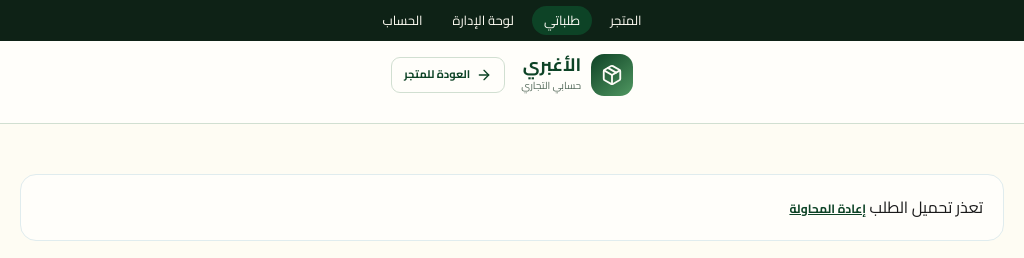
Test: customer order detail real route acceptance › shows a source-read failure and recovers through the actual retry action
Expected: the message "تعذر تحميل الطلب إعادة المحاولة" is shown, 20,174 -> 1004,241
Click the button with aria-label "إعادة تحميل تفاصيل الطلب" at (828, 208), box 789,199 -> 866,218
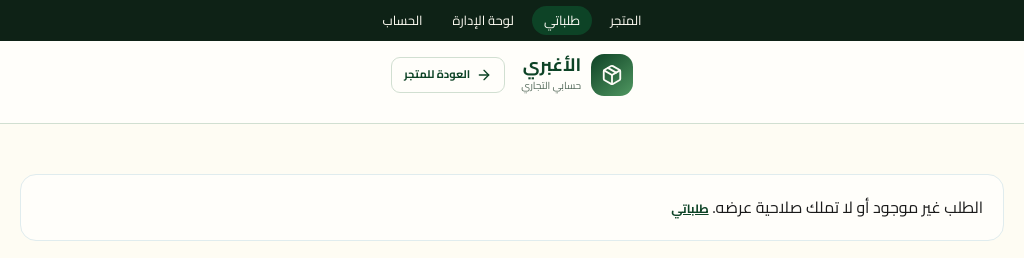
Result: the message "تعذر تحميل الطلب إعادة المحاولة" is gone
Result: the text "الطلب غير موجود أو لا تملك صلاحية عرضه." is shown at 709,192 -> 983,222
